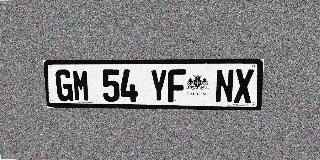4: (120, 69, 138, 102)
5: (102, 69, 120, 102)
F: (168, 69, 186, 103)
G: (55, 69, 73, 101)
M: (72, 69, 90, 102)
N: (215, 69, 234, 103)
X: (234, 69, 254, 103)
Y: (150, 69, 167, 102)
